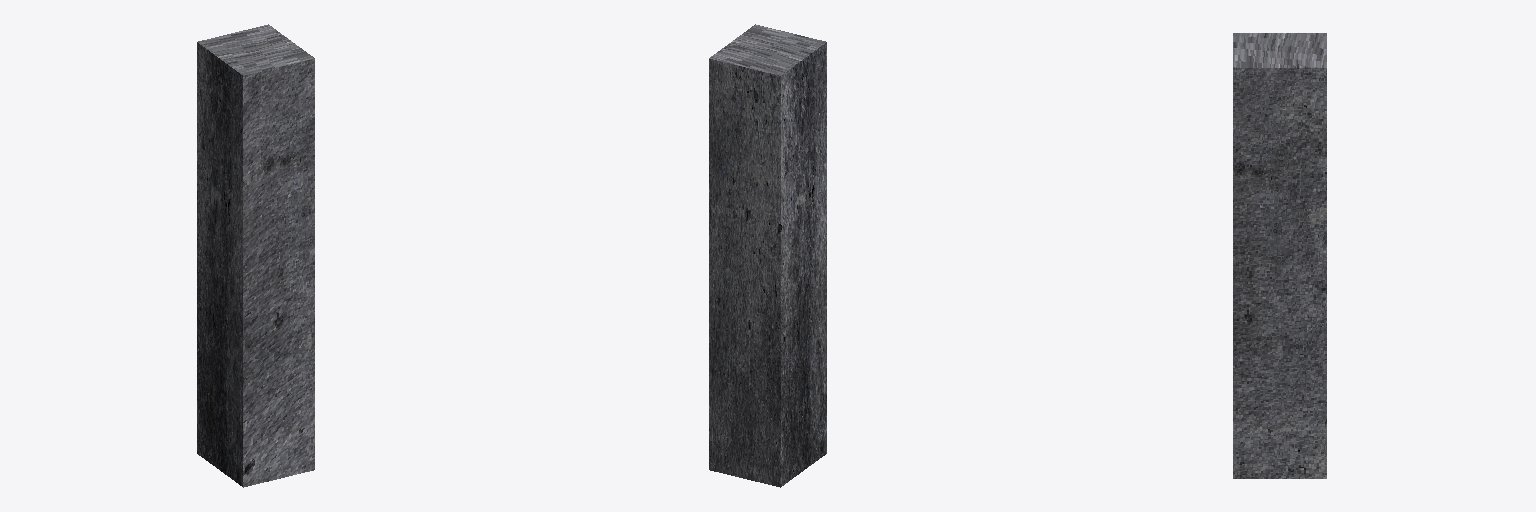
3 renders of one model, left to right at view 1: azimuth 30°, elevation 25°; view 2: azimuth 150°, elevation 25°; view 3: azimuth 270°, elevation 25°, orthographic.
Parts seen in each view (by area): view 1: Cube; view 2: Cube; view 3: Cube.
Part boxes in pixels (x1,y1,x2,y2): Cube: (197,24,314,487); Cube: (709,24,826,487); Cube: (1233,33,1326,478).
Bounding box in the file's own units: 0.3649 × 2 × 0.4099.
Materials: 1 (1 with a texture image).